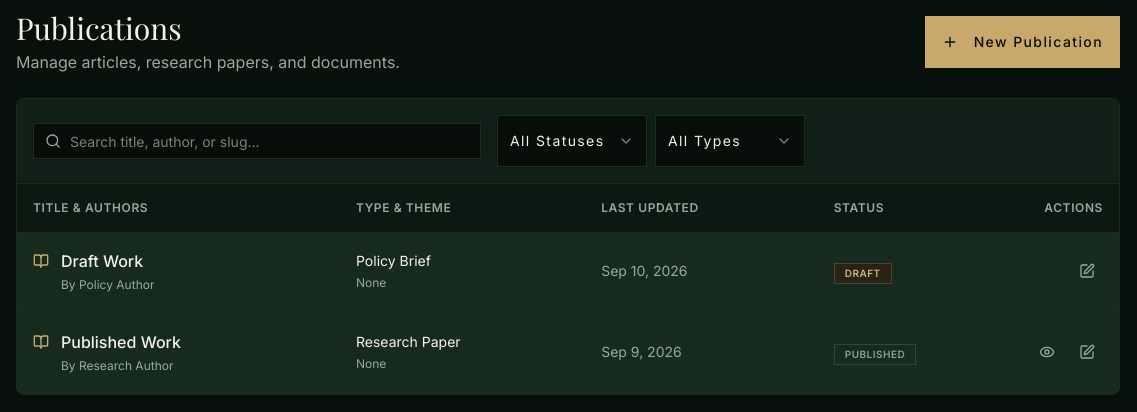
Scenario: AdminPublications › filters verified records by search text
Expected: the text "Published Work" is shown, [61,330,181,354]
Expected: the text "Draft Work" is shown, [61,249,154,273]
Type "Draft" into the field with placeholder "Search title, author, or slug...". click: {"x": 257, "y": 141}
box: [33,123,481,159]
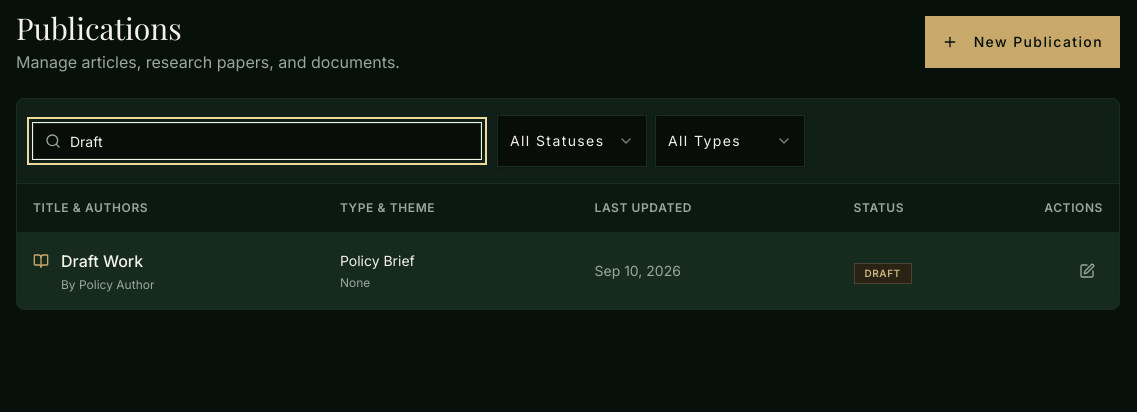
Expected: the text "Draft Work" is shown, [61,249,154,273]
Expected: the text "Published Work" is gone
